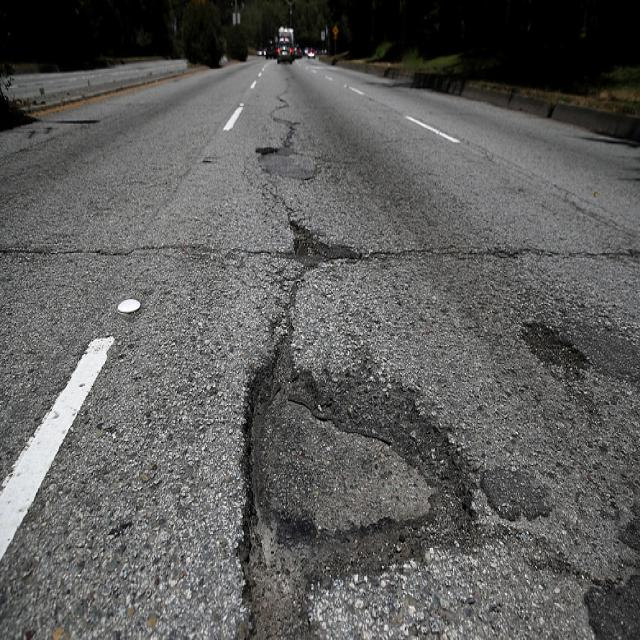Pothole: (263, 422, 449, 634)
